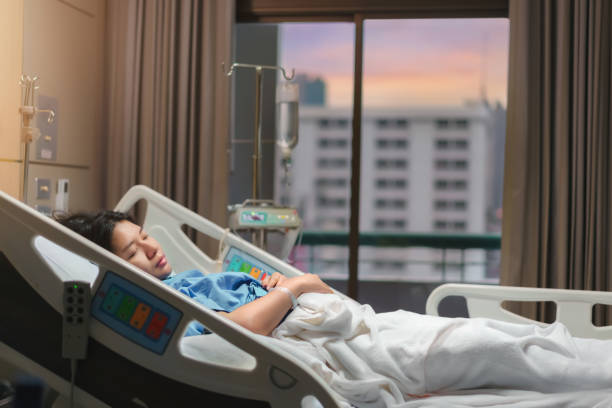bedrail: (1, 192, 348, 408), (114, 184, 353, 301), (425, 281, 612, 339)
hospital_bed: (1, 184, 612, 408)
iv_pole: (222, 60, 296, 195), (15, 73, 55, 205)
patient: (56, 208, 335, 338)
syringe_pump: (227, 202, 303, 230)
